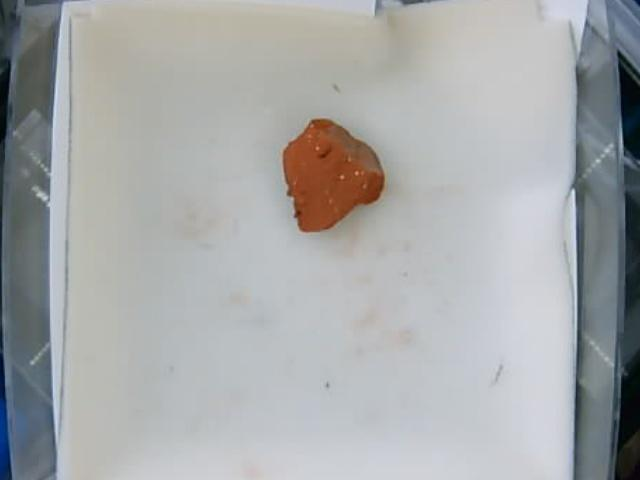Brisk: (283, 116, 385, 231)
